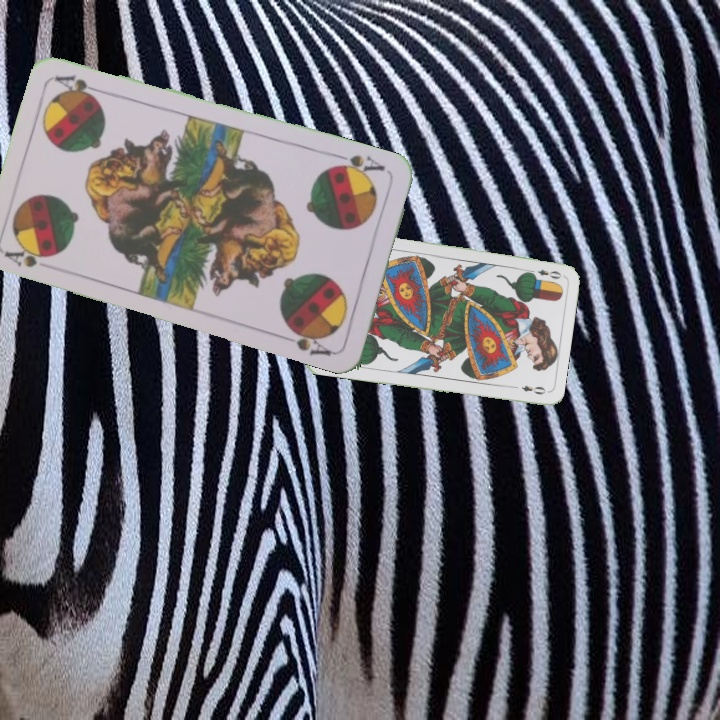EO: (524, 265, 564, 281)
SA: (330, 150, 388, 181), (1, 242, 57, 270)
